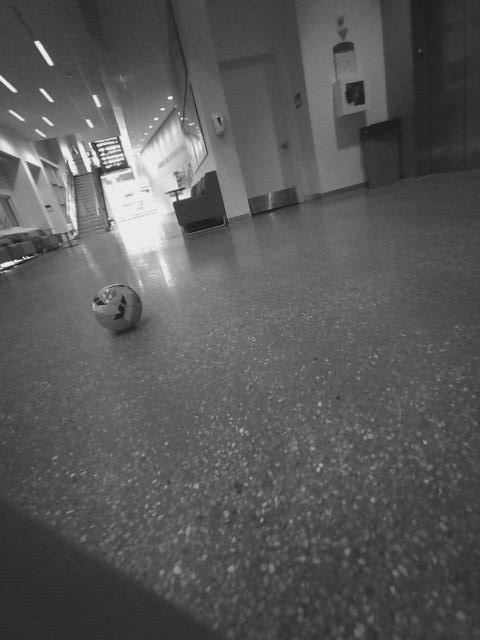ball: (87, 279, 148, 335)
